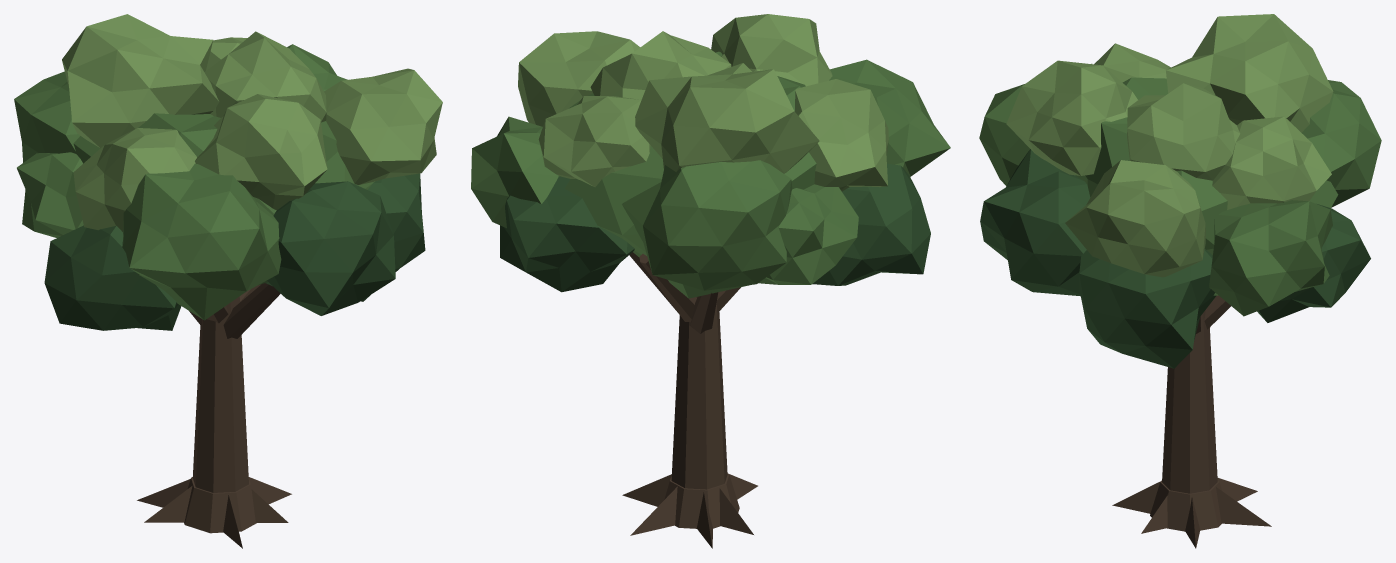
The model's file is tree_oak_big.glb.
3 views of the same model, side by side, from view 1: azimuth 30°, elevation 25°; view 2: azimuth 150°, elevation 25°; view 3: azimuth 270°, elevation 25° (orthographic). The views are drawn at different scales.
Parts seen in each view (by area): view 1: tree_oak_big; view 2: tree_oak_big; view 3: tree_oak_big.
Boxes of the visible parts, box(x1,y1,x2,y2) form: tree_oak_big: box(14, 14, 442, 548); tree_oak_big: box(471, 14, 950, 548); tree_oak_big: box(979, 14, 1381, 548).
Size of what is drawn, in the model's own units: 5.23 by 6.16 by 4.89.
1 material, 1 textured.
